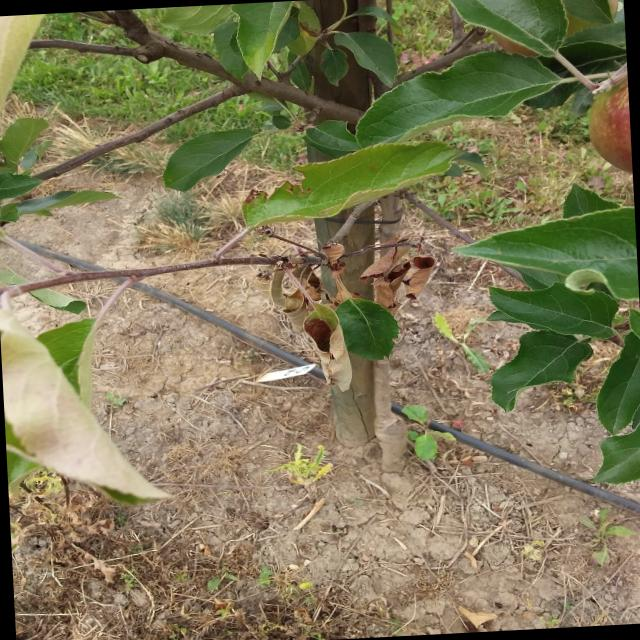-FireBlight-: (270, 256, 358, 404), (366, 243, 432, 308)
